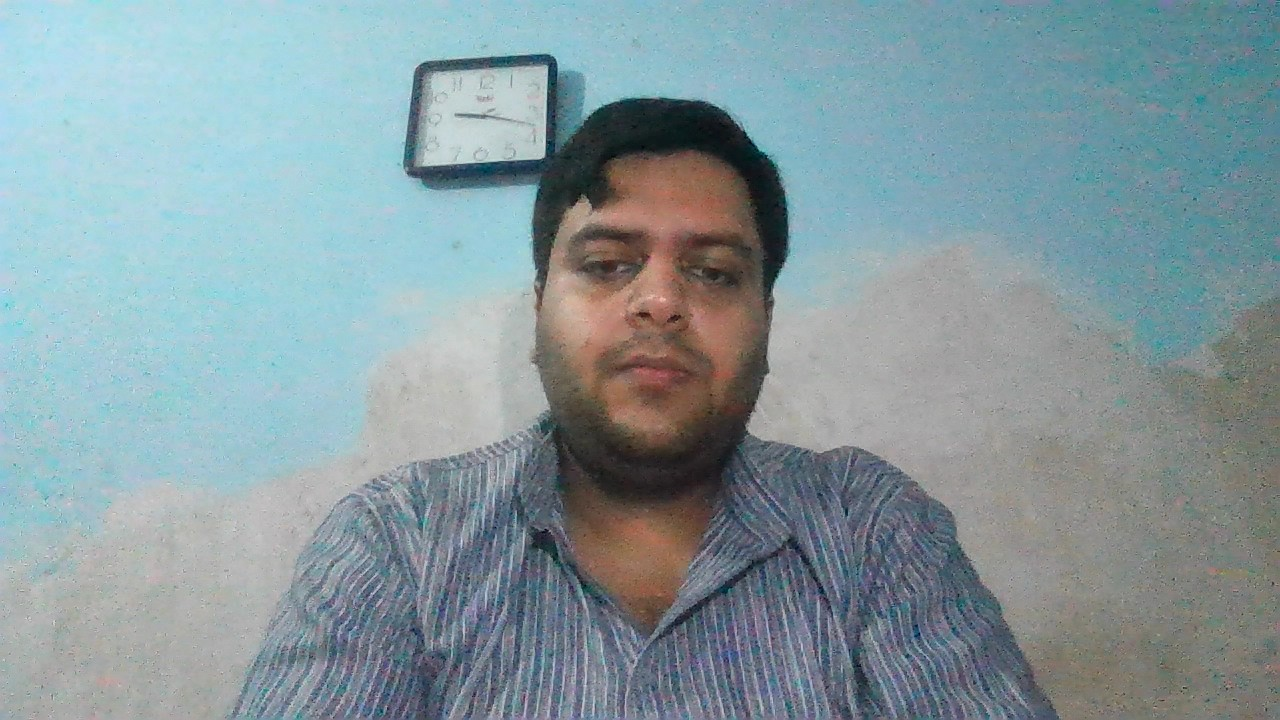No Mask: (527, 282, 778, 472)
